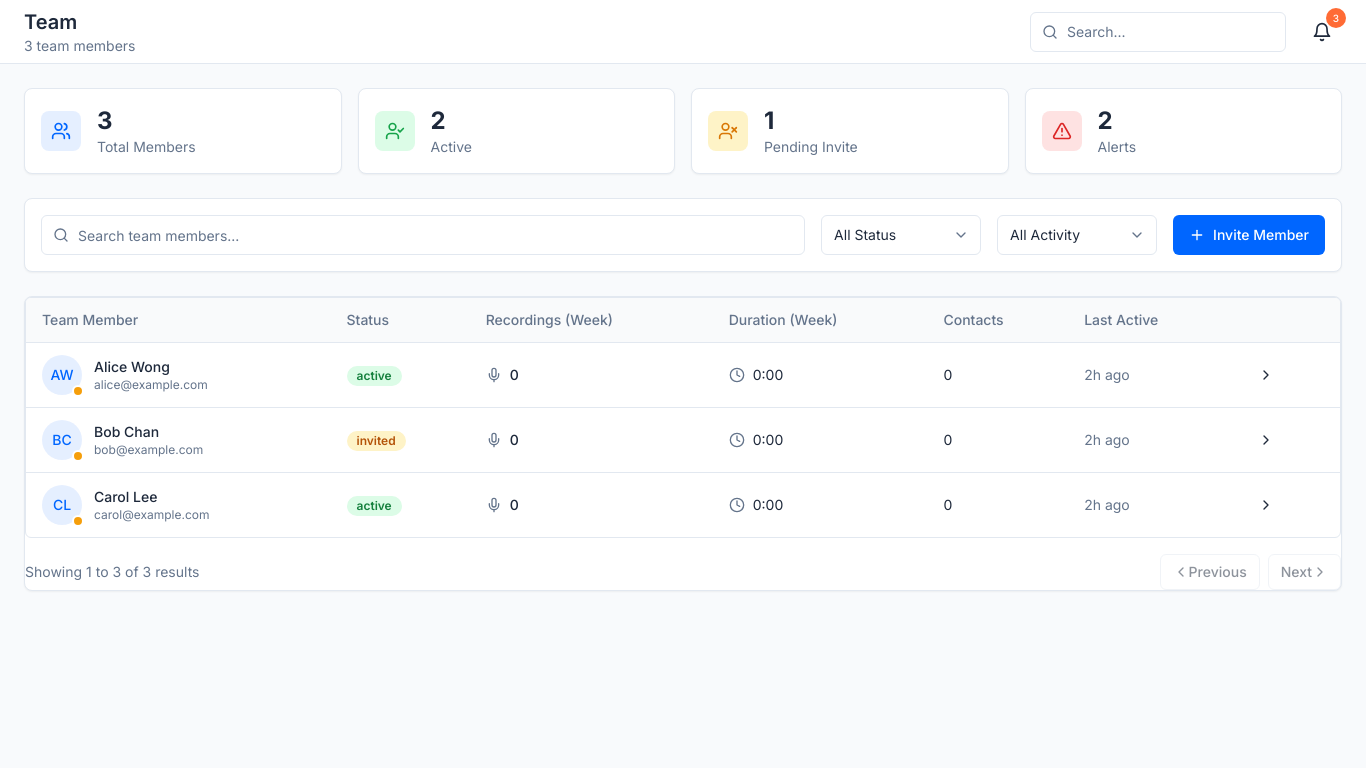
Test: TeamPage — status filter › filters to only invited members
The width and height of the screenshot is (1366, 768).
Select "Invited" in the 1st dropdown at (901, 235), box [821,215,981,255]
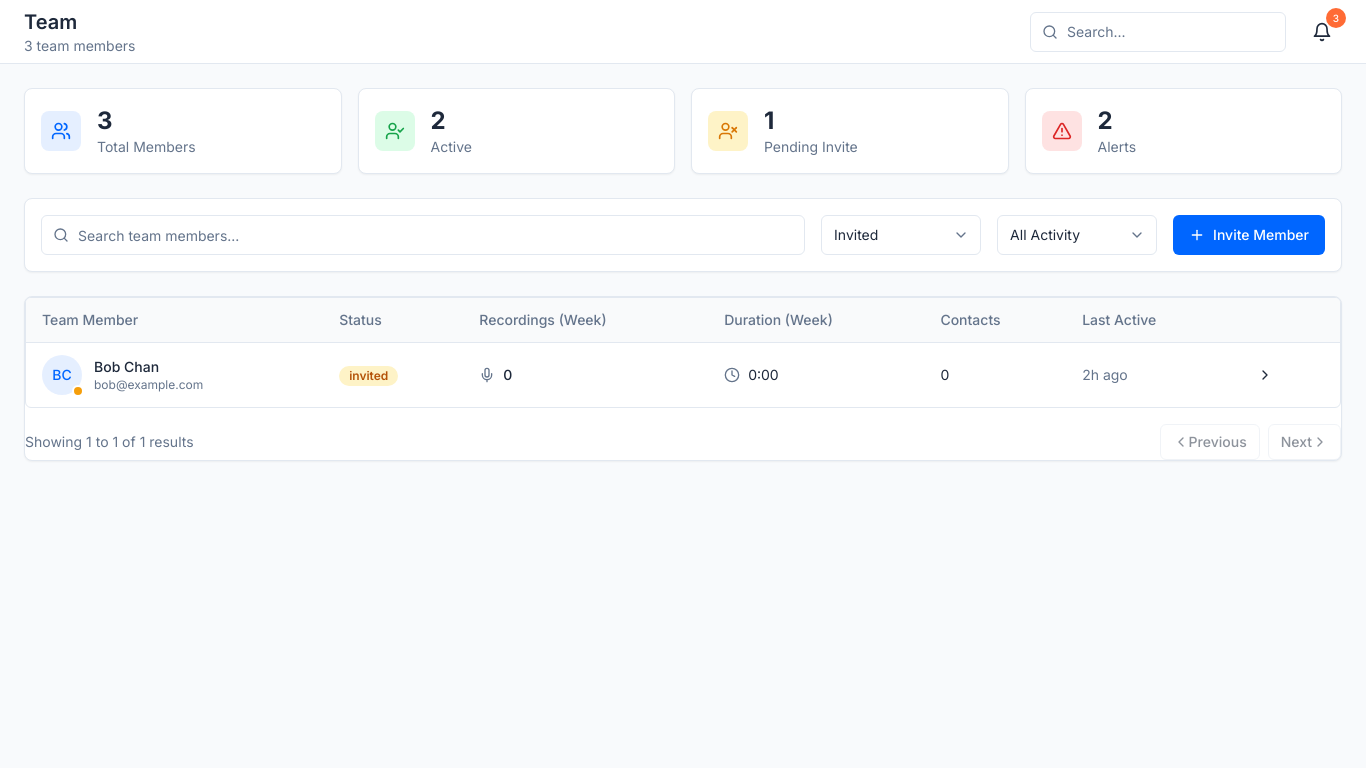
Now the text "Bob Chan" is shown, box [94,357,159,377]
Now the text "Alice Wong" is gone
